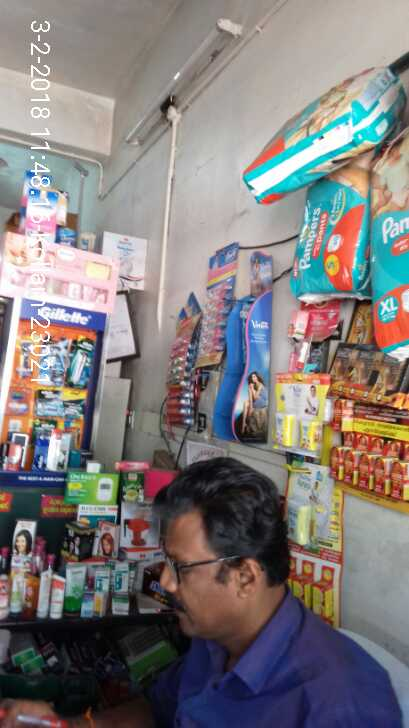beauty: (71, 334, 93, 389), (37, 386, 61, 413)
pharmacy: (244, 73, 377, 202), (290, 183, 366, 304)
reject: (159, 195, 179, 223)
